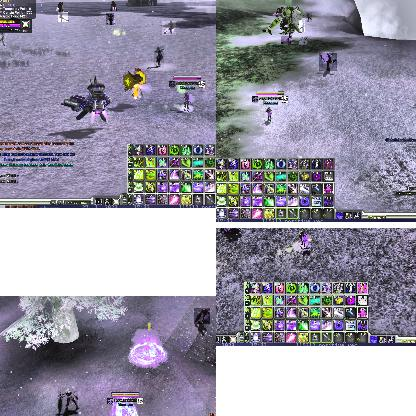caliana: (58, 387, 78, 416), (319, 53, 337, 71), (194, 308, 210, 324), (154, 46, 164, 68), (162, 21, 176, 35), (58, 12, 68, 22), (106, 13, 114, 25), (0, 34, 6, 48), (281, 36, 291, 44), (299, 20, 305, 32), (306, 12, 312, 22)
